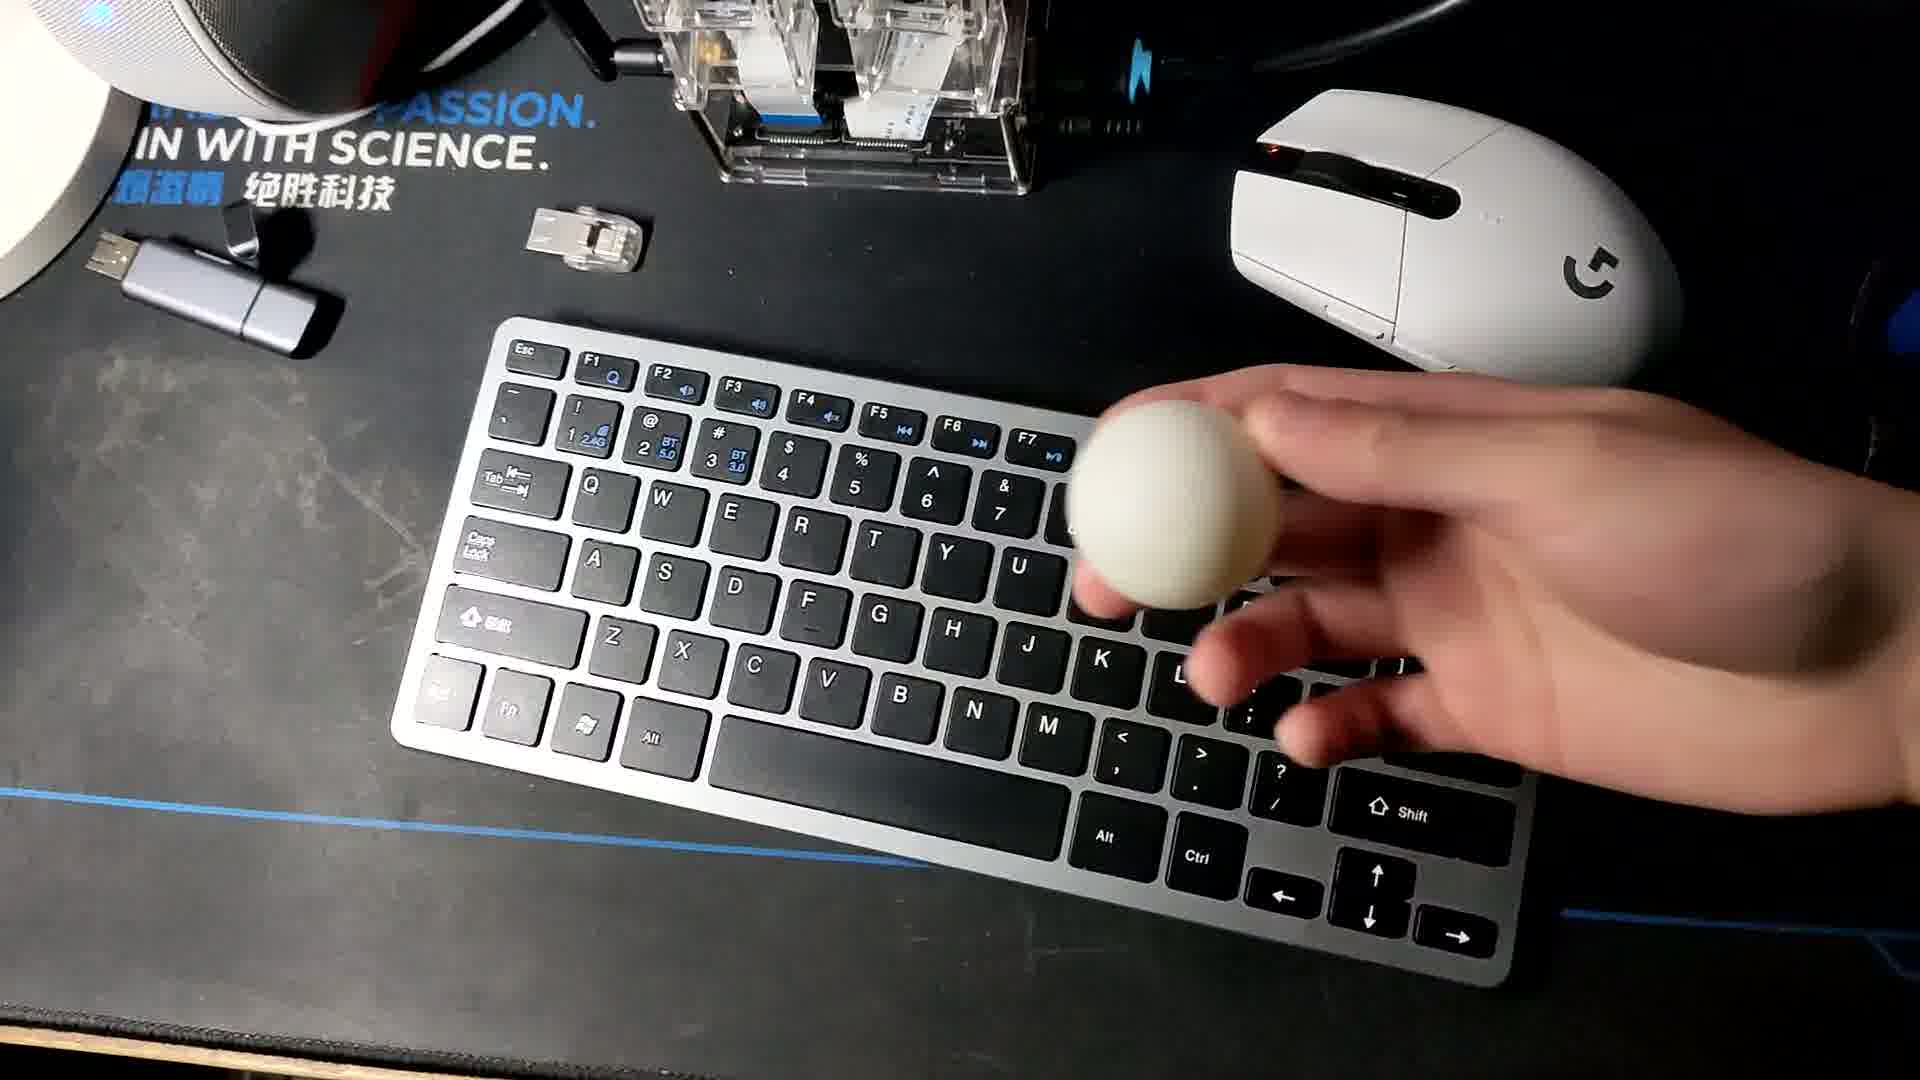Ball: (1067, 402, 1284, 608)
